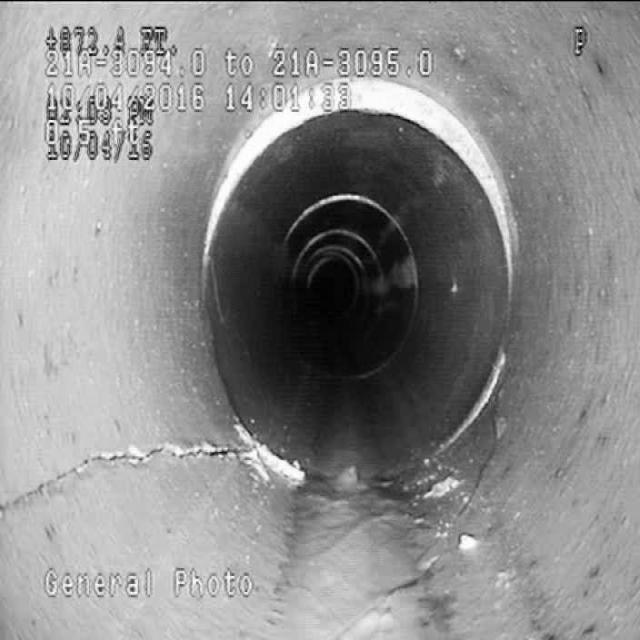Fracture: (11, 390, 244, 512)
